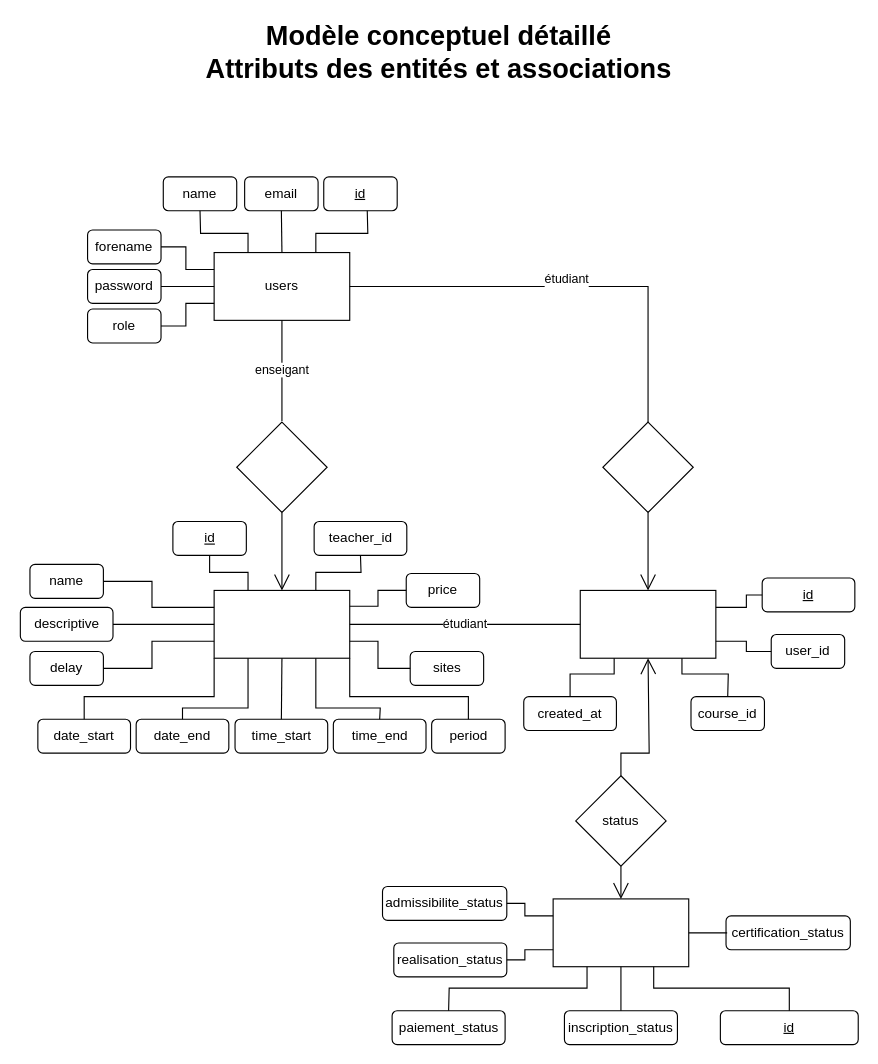
The diagram is 878 pixels wide and 1064 high, and some of its shapes have lost their labels. Here are the shapes that lost their labels. From the top down, the centre of each, then its label:
At (281,466): "enseigne".
At (647,466): "s'inscrit".
At (281,623): "course".
At (647,623): "enrollement".
At (620,932): "enrollementstatus".
